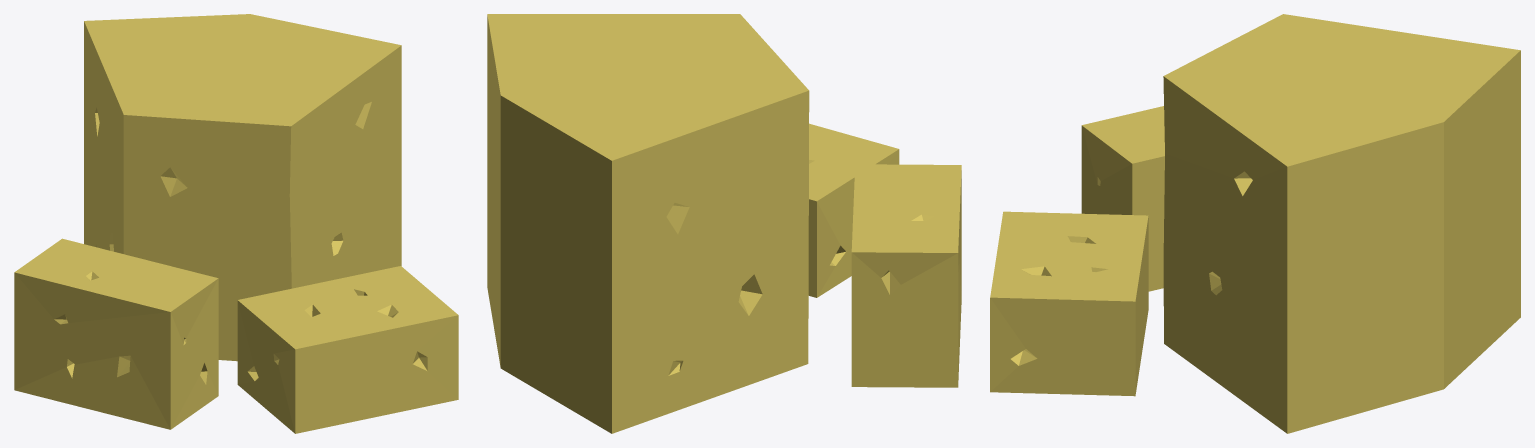
The model's file is SM_Cheese_Slicing.fbx.
3 renders of one model, left to right at view 1: azimuth 30°, elevation 25°; view 2: azimuth 150°, elevation 25°; view 3: azimuth 270°, elevation 25°, orthographic. The views are drawn at different scales.
Parts seen in each view (by area): view 1: half sliced cheese; view 2: half sliced cheese; view 3: half sliced cheese.
Boxes of the visible parts, x1=… form: half sliced cheese: x1=14, y1=14, x2=458, y2=433; half sliced cheese: x1=487, y1=14, x2=961, y2=433; half sliced cheese: x1=990, y1=14, x2=1520, y2=433.
Bounding box in the file's own units: 43 × 24.56 × 44.2.
